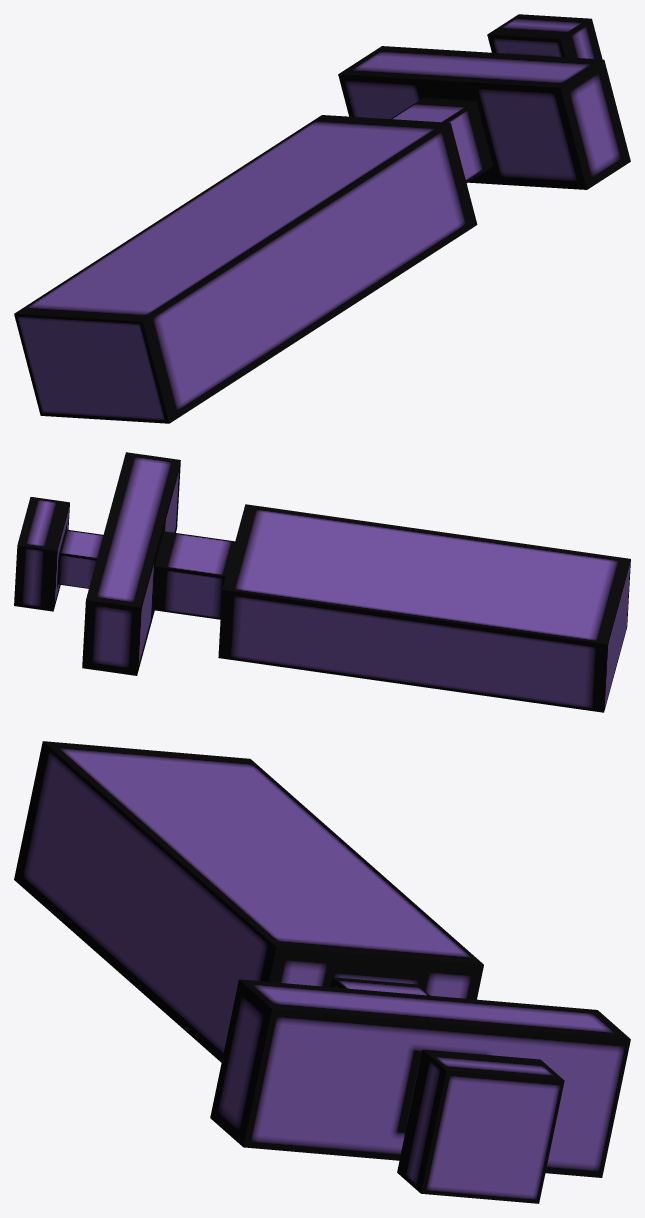
Rendered from Sword.fbx.
3 views of the same model, one above another, from view 1: azimuth 30°, elevation 25°; view 2: azimuth 150°, elevation 25°; view 3: azimuth 270°, elevation 25° (orthographic). The views are drawn at different scales.
Parts seen in each view (by area): view 1: pCube1; view 2: pCube1; view 3: pCube1.
Boxes of the visible parts, x1,y1,x2,y2 form: pCube1: [14, 14, 630, 423]; pCube1: [14, 452, 630, 712]; pCube1: [14, 741, 630, 1203].
Bounding box in the file's own units: 4.03 × 1.16 × 2.46.
Materials: 1 (1 with a texture image).
